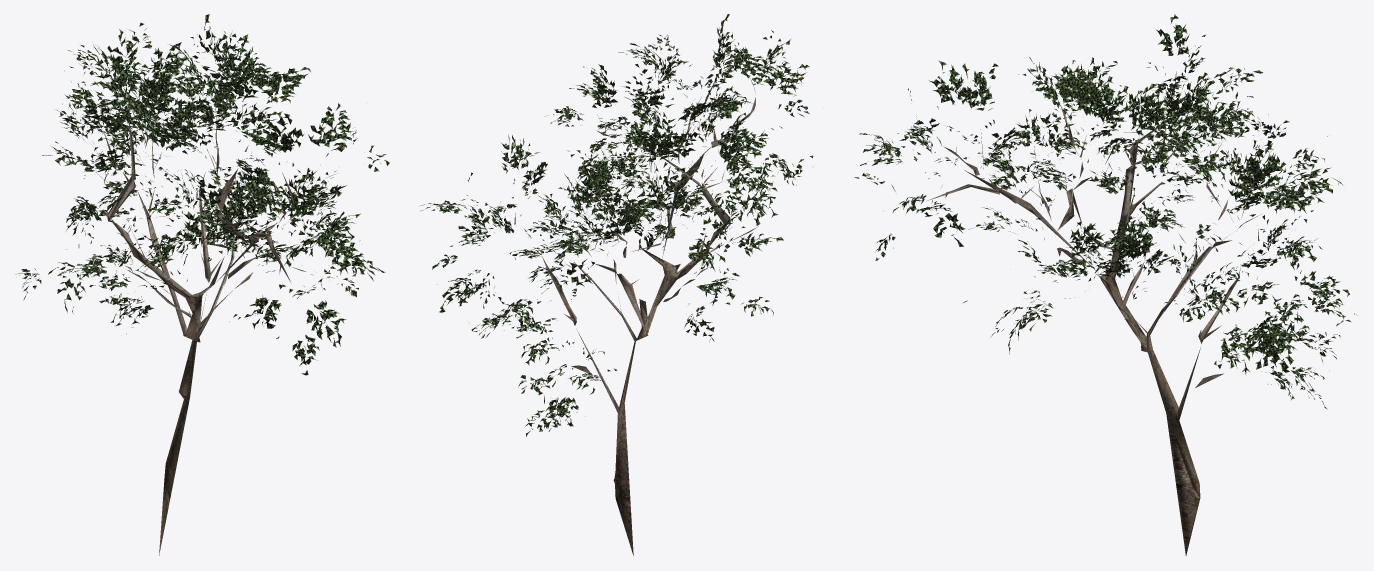
File: tree-far.glb
3 views of the same model, side by side, from view 1: azimuth 30°, elevation 25°; view 2: azimuth 150°, elevation 25°; view 3: azimuth 270°, elevation 25° (orthographic). The views are drawn at different scales.
Parts seen in each view (by area): view 1: tree_small_02_LOD0; view 2: tree_small_02_LOD0; view 3: tree_small_02_LOD0.
Part boxes in pixels (x1,y1,x2,y2): tree_small_02_LOD0: [15, 14, 389, 555]; tree_small_02_LOD0: [420, 14, 813, 555]; tree_small_02_LOD0: [854, 14, 1356, 555].
Bounding box in the file's own units: 2.87 × 4.53 × 4.14.
Materials: 3 (3 with a texture image).
